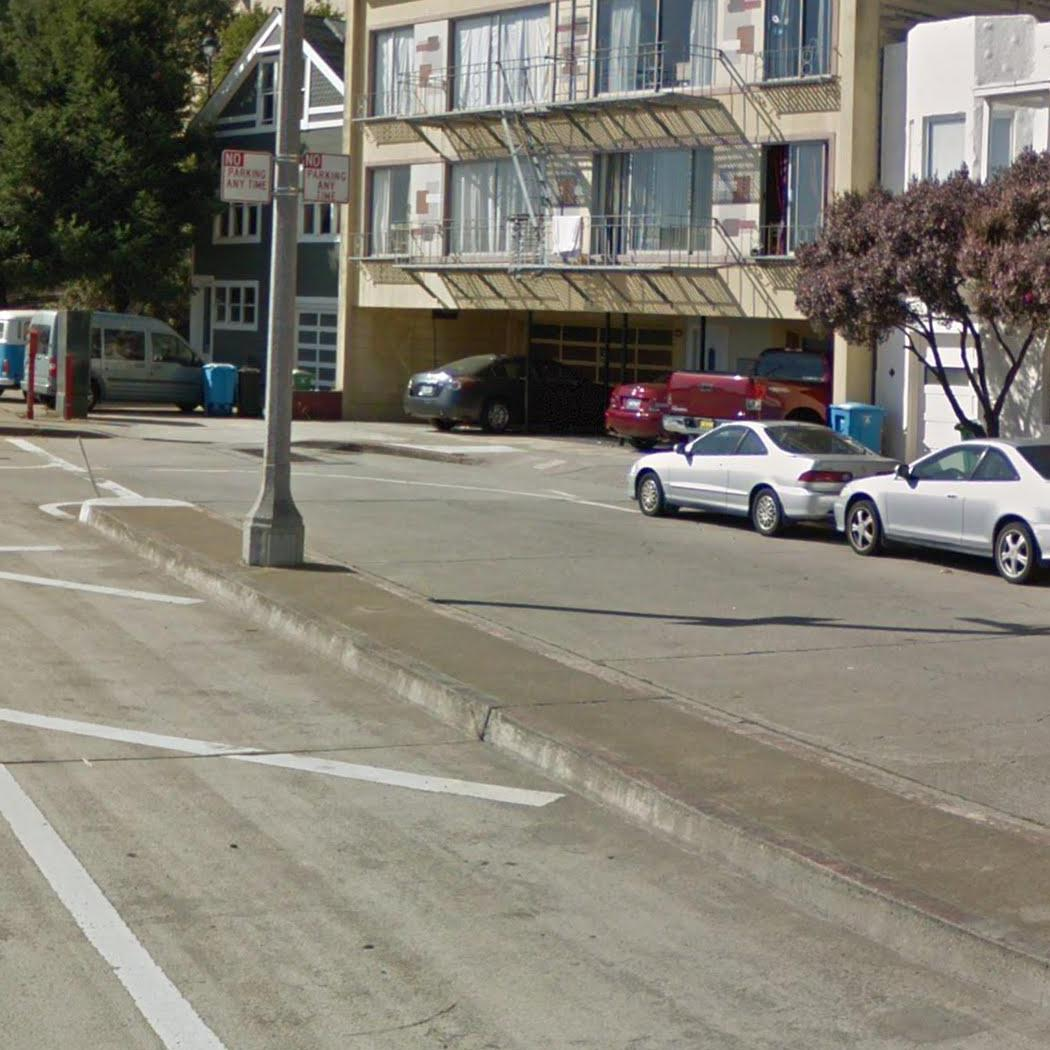No Parking: (217, 147, 276, 206), (300, 150, 354, 206)
